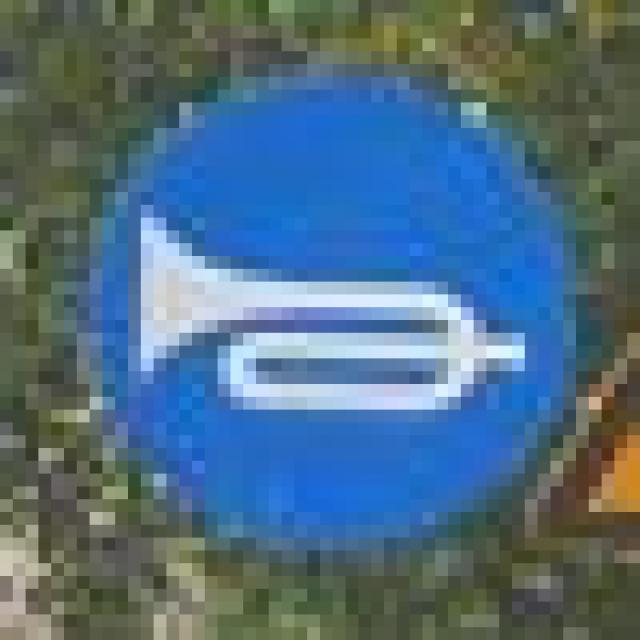COMPULSARY_SOUND_HORN: (51, 38, 576, 550)
